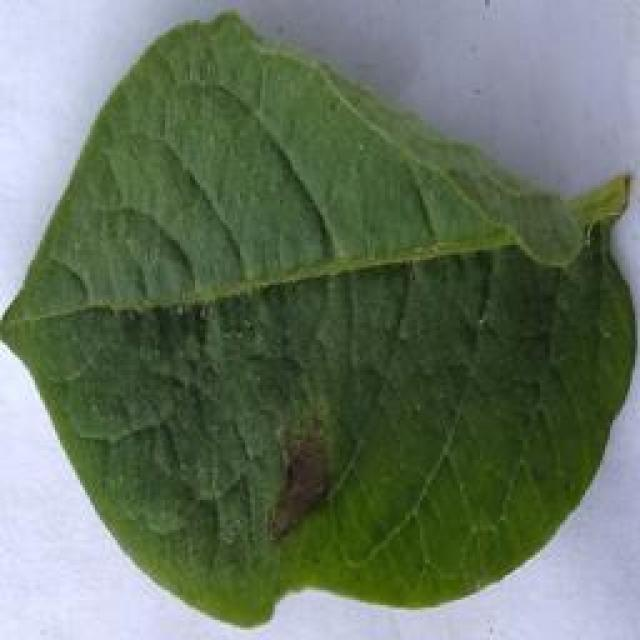Potato_Late_Blight: (2, 4, 630, 632)
